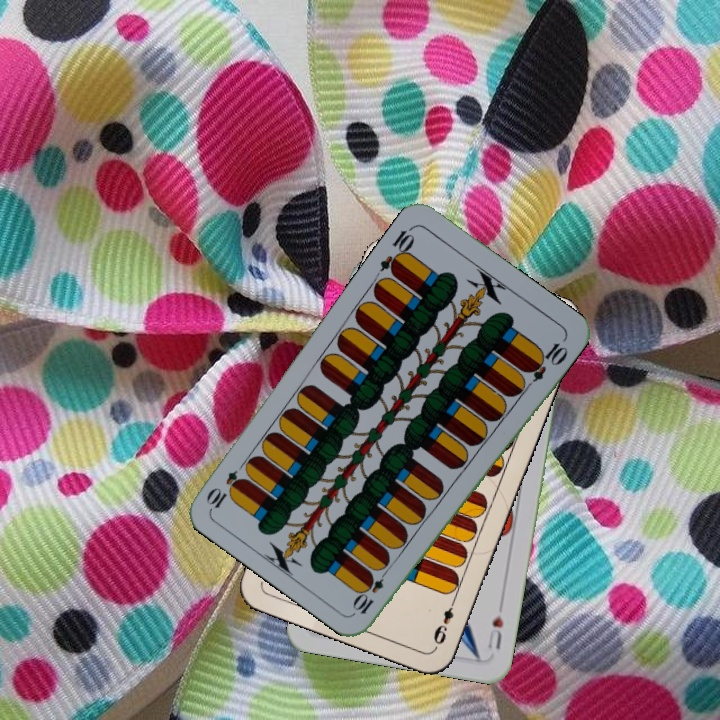E10: (375, 222, 418, 278), (350, 563, 392, 617)
E9: (429, 593, 459, 650)
HU: (484, 611, 506, 652)
